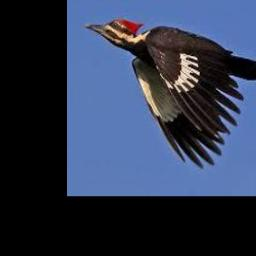Woodpecker: (85, 18, 256, 168)
